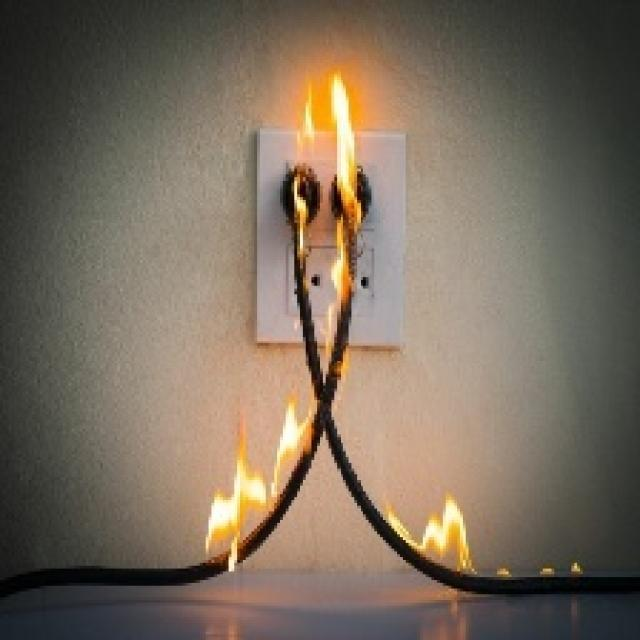fire: (324, 69, 371, 227)
